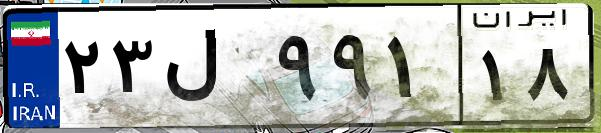1: (385, 28, 445, 110), (475, 38, 525, 113)
2: (57, 26, 110, 100)
3: (110, 28, 158, 98)
8: (525, 38, 570, 115)
9: (270, 28, 330, 110), (330, 28, 385, 110)
ل: (158, 20, 270, 120)
